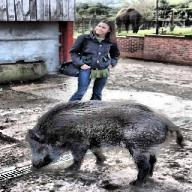boar: (25, 98, 184, 186)
